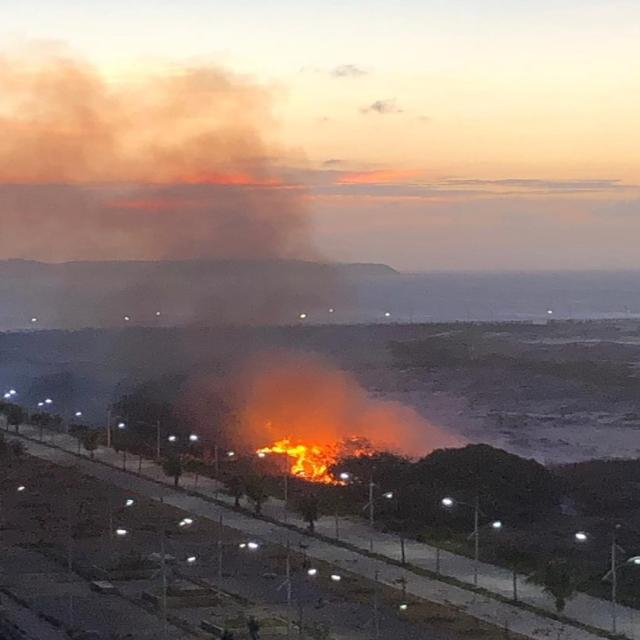Fire: (252, 438, 351, 487)
Smoke: (1, 55, 477, 465)
